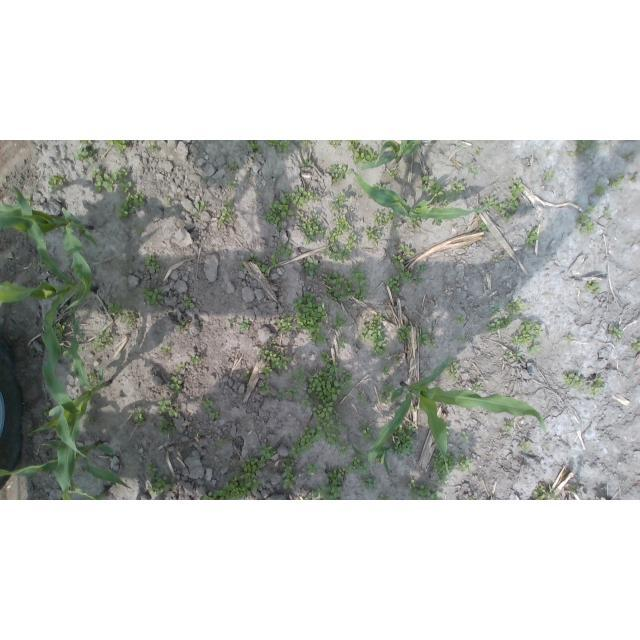Maize: (0, 183, 96, 429), (368, 360, 548, 473), (33, 317, 107, 500), (1, 440, 136, 500), (350, 165, 492, 221), (1, 203, 100, 249), (351, 430, 405, 478), (359, 140, 426, 170), (65, 479, 113, 500)
Weeds: (292, 291, 328, 346), (313, 400, 346, 448), (306, 362, 342, 402), (359, 312, 387, 356), (92, 166, 133, 195), (235, 455, 265, 493), (421, 175, 454, 209), (262, 197, 294, 231), (390, 422, 419, 459), (288, 426, 319, 458), (325, 271, 355, 304), (117, 190, 146, 221), (214, 476, 250, 500), (256, 346, 292, 370), (510, 319, 542, 346), (299, 213, 325, 246), (327, 214, 353, 246), (432, 452, 457, 485), (407, 478, 441, 500), (346, 141, 378, 164), (351, 267, 372, 301), (285, 187, 314, 209), (140, 283, 165, 307), (345, 452, 370, 476), (304, 485, 342, 500), (282, 458, 299, 491), (484, 314, 512, 334), (148, 476, 175, 496), (497, 198, 519, 222), (320, 246, 352, 262), (92, 327, 112, 352), (564, 372, 587, 393), (328, 163, 352, 183), (76, 140, 96, 164), (533, 484, 560, 501), (218, 198, 234, 226), (328, 190, 349, 211), (158, 397, 179, 417), (286, 368, 306, 389), (575, 212, 593, 235), (204, 396, 221, 420), (416, 329, 437, 348), (60, 341, 82, 359), (157, 418, 179, 435), (374, 209, 394, 227), (457, 454, 474, 475), (509, 180, 526, 201), (506, 300, 527, 317), (445, 359, 460, 382), (327, 466, 345, 485), (275, 315, 293, 334), (586, 378, 605, 396), (144, 252, 161, 272), (574, 141, 594, 158), (449, 178, 466, 198), (104, 140, 130, 153), (379, 384, 395, 405), (266, 141, 291, 154), (524, 227, 541, 246), (303, 258, 320, 277), (49, 174, 68, 191), (106, 300, 122, 320), (366, 228, 383, 246), (359, 423, 374, 443), (340, 369, 353, 391), (133, 407, 148, 425), (285, 385, 303, 400), (360, 476, 378, 491), (397, 325, 412, 343), (385, 275, 400, 293), (278, 243, 294, 259), (261, 443, 276, 460), (586, 280, 603, 295), (54, 322, 67, 341), (170, 376, 183, 395), (399, 244, 415, 259), (122, 311, 139, 325), (333, 313, 347, 330), (391, 255, 405, 272), (245, 140, 263, 153), (25, 424, 41, 438), (609, 173, 625, 187), (489, 301, 503, 317), (255, 262, 269, 277), (483, 197, 499, 210), (346, 233, 359, 249), (225, 177, 239, 191), (609, 327, 624, 340), (594, 182, 607, 196), (175, 320, 190, 332), (301, 393, 312, 409), (146, 463, 159, 476), (306, 462, 319, 475), (400, 270, 413, 283), (320, 351, 332, 365), (184, 294, 195, 309), (262, 364, 275, 376), (466, 162, 478, 175), (87, 369, 98, 383), (259, 379, 270, 393), (194, 202, 208, 213), (414, 262, 426, 274), (543, 169, 555, 181), (518, 439, 530, 451), (388, 166, 399, 179), (409, 218, 422, 229), (86, 411, 95, 426), (190, 356, 202, 367), (504, 420, 515, 432), (146, 141, 158, 152), (39, 406, 52, 416), (201, 490, 214, 500), (357, 393, 367, 406), (479, 220, 488, 234), (413, 274, 424, 285), (338, 337, 348, 349), (454, 314, 466, 324), (241, 319, 250, 332), (300, 158, 313, 167), (493, 254, 506, 263), (528, 346, 541, 355), (271, 253, 279, 267), (632, 337, 640, 351), (228, 162, 239, 172), (473, 381, 484, 391), (474, 204, 483, 216), (247, 252, 259, 261), (160, 345, 173, 353), (217, 438, 227, 448), (382, 365, 391, 376), (276, 388, 284, 400), (24, 194, 32, 206), (446, 426, 451, 445), (374, 183, 387, 190), (243, 370, 252, 380), (340, 445, 349, 455), (460, 431, 469, 441), (136, 224, 144, 235), (586, 204, 597, 212), (563, 334, 574, 342), (176, 364, 185, 373), (297, 211, 306, 220), (603, 210, 612, 219), (629, 172, 637, 182), (458, 335, 466, 345), (377, 494, 389, 500), (568, 150, 577, 158), (433, 218, 442, 226), (314, 193, 323, 201), (514, 353, 523, 361), (330, 141, 340, 148), (390, 226, 400, 233), (412, 405, 420, 413), (274, 174, 281, 183), (505, 350, 512, 359), (164, 196, 171, 204), (268, 338, 276, 345), (542, 444, 550, 451), (426, 309, 434, 316), (228, 319, 234, 328), (302, 140, 311, 146), (255, 190, 262, 197), (466, 496, 478, 500), (239, 263, 245, 270), (476, 147, 483, 153), (390, 354, 398, 359), (195, 213, 201, 219), (626, 153, 632, 159), (1, 177, 7, 183), (546, 150, 552, 155), (488, 438, 493, 444), (204, 177, 209, 183), (571, 485, 577, 490)
